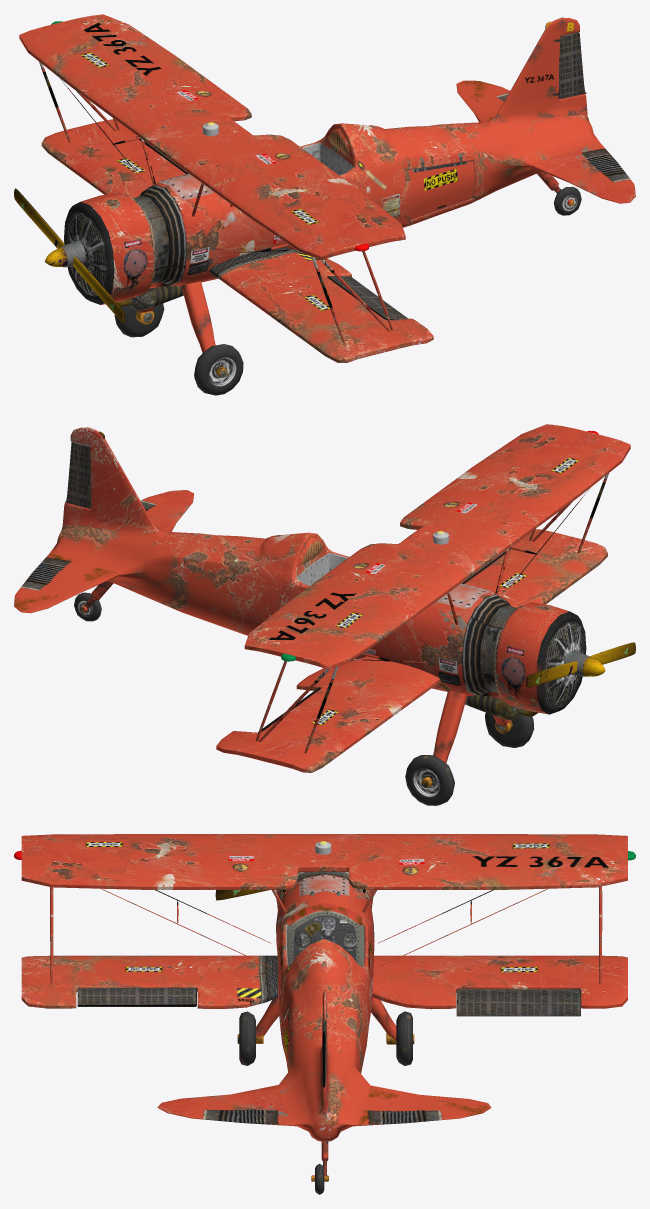
File: biplane.fbx
3 renders of one model, top to bottom at view 1: azimuth 30°, elevation 25°; view 2: azimuth 150°, elevation 25°; view 3: azimuth 270°, elevation 25°, orthographic.
Visible parts, largest first — view 1: biplane_complete:biplano_last:pCylinder32, biplane_complete:polySurface5, biplane_complete:prop_biplane_last:polySurface27, biplane_complete:polySurface1, biplane_complete:polySurface6, biplane_complete:polySurface4, biplane_complete:polySurface2, biplane_complete:polySurface3; view 2: biplane_complete:biplano_last:pCylinder32, biplane_complete:polySurface2, biplane_complete:prop_biplane_last:polySurface27, biplane_complete:polySurface6, biplane_complete:polySurface1, biplane_complete:polySurface3; view 3: biplane_complete:biplano_last:pCylinder32, biplane_complete:polySurface7, biplane_complete:polySurface4, biplane_complete:polySurface1, biplane_complete:polySurface2.
Boxes of the visible parts, <box> form: biplane_complete:biplano_last:pCylinder32: <box>19,14,635,377</box>; biplane_complete:polySurface5: <box>408,161,475,219</box>; biplane_complete:prop_biplane_last:polySurface27: <box>14,188,125,323</box>; biplane_complete:polySurface1: <box>194,344,243,395</box>; biplane_complete:polySurface6: <box>558,32,586,99</box>; biplane_complete:polySurface4: <box>327,276,408,319</box>; biplane_complete:polySurface2: <box>114,303,164,337</box>; biplane_complete:polySurface3: <box>554,186,581,215</box>; biplane_complete:biplano_last:pCylinder32: <box>14,424,630,787</box>; biplane_complete:polySurface2: <box>405,755,454,805</box>; biplane_complete:prop_biplane_last:polySurface27: <box>526,642,635,687</box>; biplane_complete:polySurface6: <box>65,442,91,508</box>; biplane_complete:polySurface1: <box>485,712,533,747</box>; biplane_complete:polySurface3: <box>74,592,101,621</box>; biplane_complete:biplano_last:pCylinder32: <box>14,834,635,1181</box>; biplane_complete:polySurface7: <box>456,989,580,1016</box>; biplane_complete:polySurface4: <box>77,987,196,1006</box>; biplane_complete:polySurface1: <box>239,1011,255,1065</box>; biplane_complete:polySurface2: <box>396,1011,412,1065</box>.
Size of the model in its own units: 15.04 by 6.74 by 14.86.
